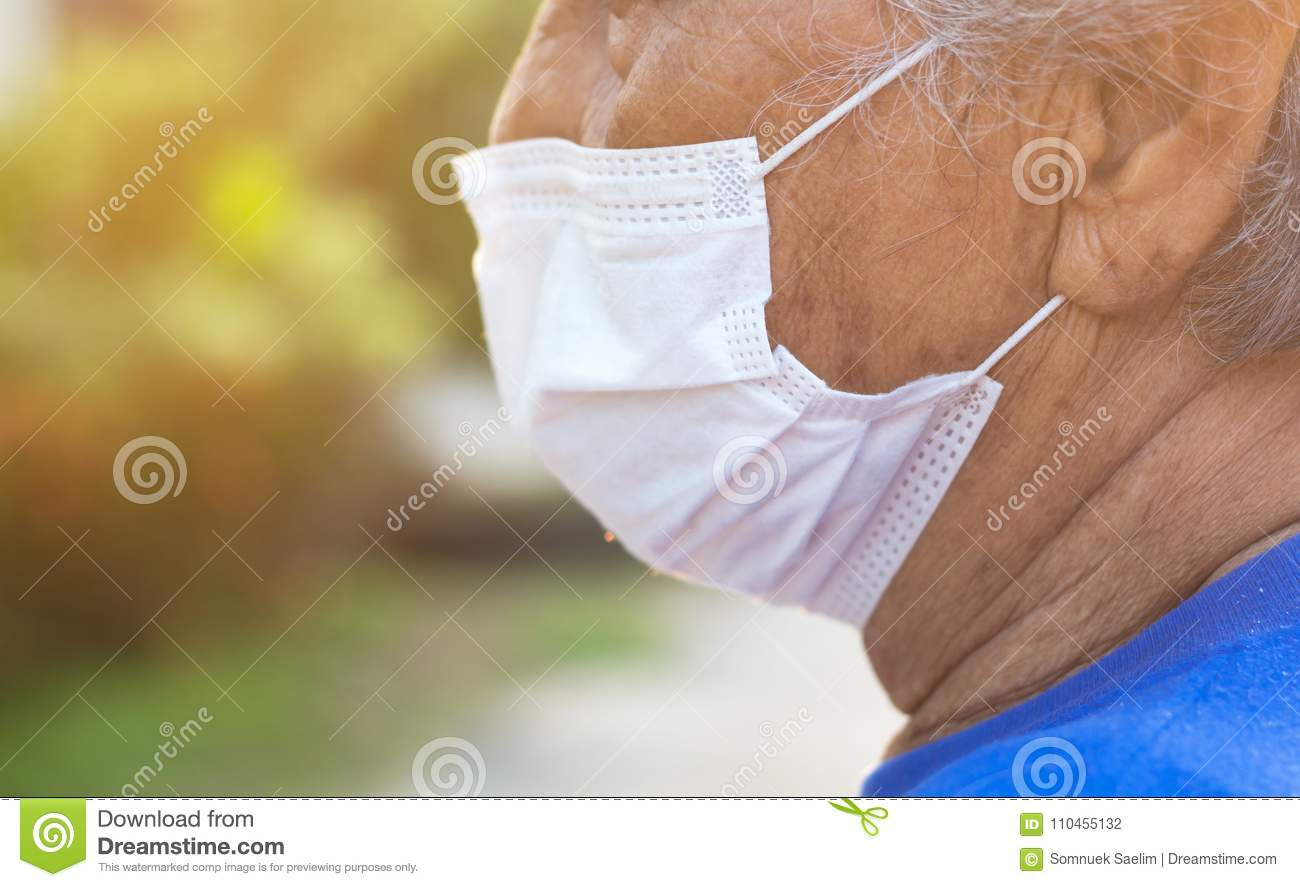mask: (462, 133, 1000, 629)
